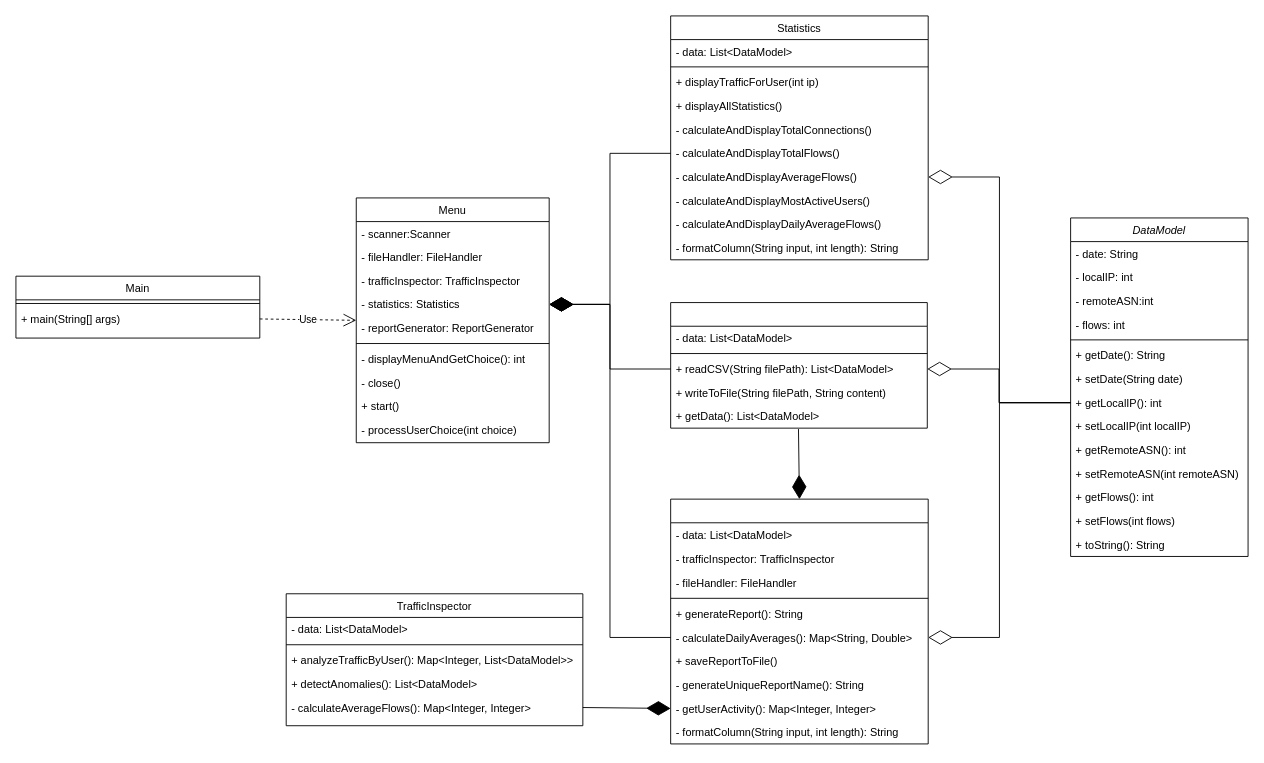
Some shapes in this 1264 by 763 pixel diagram are drawn without their labels. The shapes that lost their labels are listed below. From the top down, each one's box as (x1, y1, x2, y2) in pixels, then its label:
(670, 302, 927, 428): FileHandler
(670, 498, 928, 744): ReportGenerator
